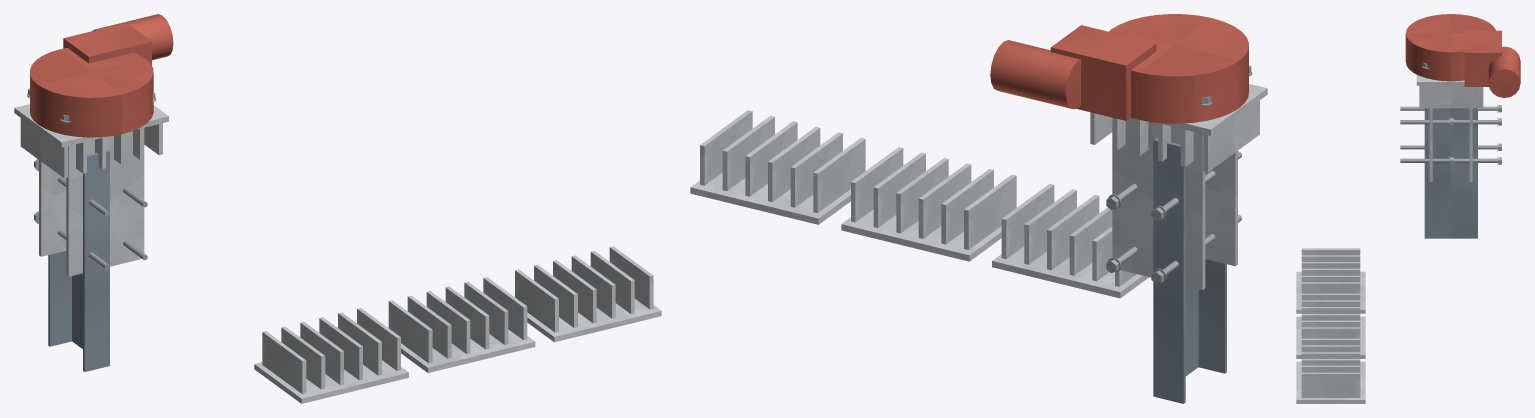
Rendered from solar-slew-drive-seats.glb.
The picture shows the model from 3 angles, left to right: view 1: azimuth 30°, elevation 25°; view 2: azimuth 150°, elevation 25°; view 3: azimuth 270°, elevation 25°; orthographic projection. The views are drawn at different scales.
Visible parts, largest first — view 1: SeatsinaBatch, SlewDrive(context), Cheek&TopPlates, TrackerPost(context), StiffeningFins, Bolts; view 2: SeatsinaBatch, SlewDrive(context), Cheek&TopPlates, TrackerPost(context), StiffeningFins, Bolts; view 3: SeatsinaBatch, SlewDrive(context), TrackerPost(context), Bolts, StiffeningFins, Cheek&TopPlates.
Part boxes in pixels (<box>): SeatsinaBatch: <box>254,246,661,403</box>; SlewDrive(context): <box>30,14,173,137</box>; Cheek&TopPlates: <box>14,104,168,276</box>; TrackerPost(context): <box>48,148,109,371</box>; StiffeningFins: <box>20,118,162,178</box>; Bolts: <box>27,88,156,269</box>; SeatsinaBatch: <box>690,110,1148,298</box>; SlewDrive(context): <box>990,14,1248,123</box>; Cheek&TopPlates: <box>1112,84,1267,289</box>; TrackerPost(context): <box>1153,137,1226,403</box>; StiffeningFins: <box>1090,100,1259,172</box>; Bolts: <box>1106,65,1252,284</box>; SeatsinaBatch: <box>1296,248,1365,403</box>; SlewDrive(context): <box>1405,14,1520,97</box>; TrackerPost(context): <box>1424,108,1477,238</box>; Bolts: <box>1400,62,1501,165</box>; StiffeningFins: <box>1419,85,1483,108</box>; Cheek&TopPlates: <box>1416,75,1472,181</box>.
Size of the model in its own units: 1.64 by 0.87 by 0.84.
4 materials, 4 textured.
